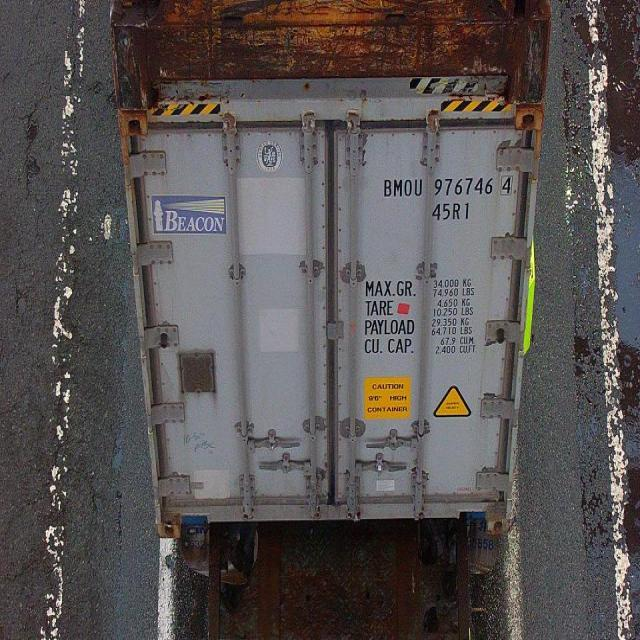ISO: (433, 201, 471, 221)
container_number: (381, 169, 513, 199)
